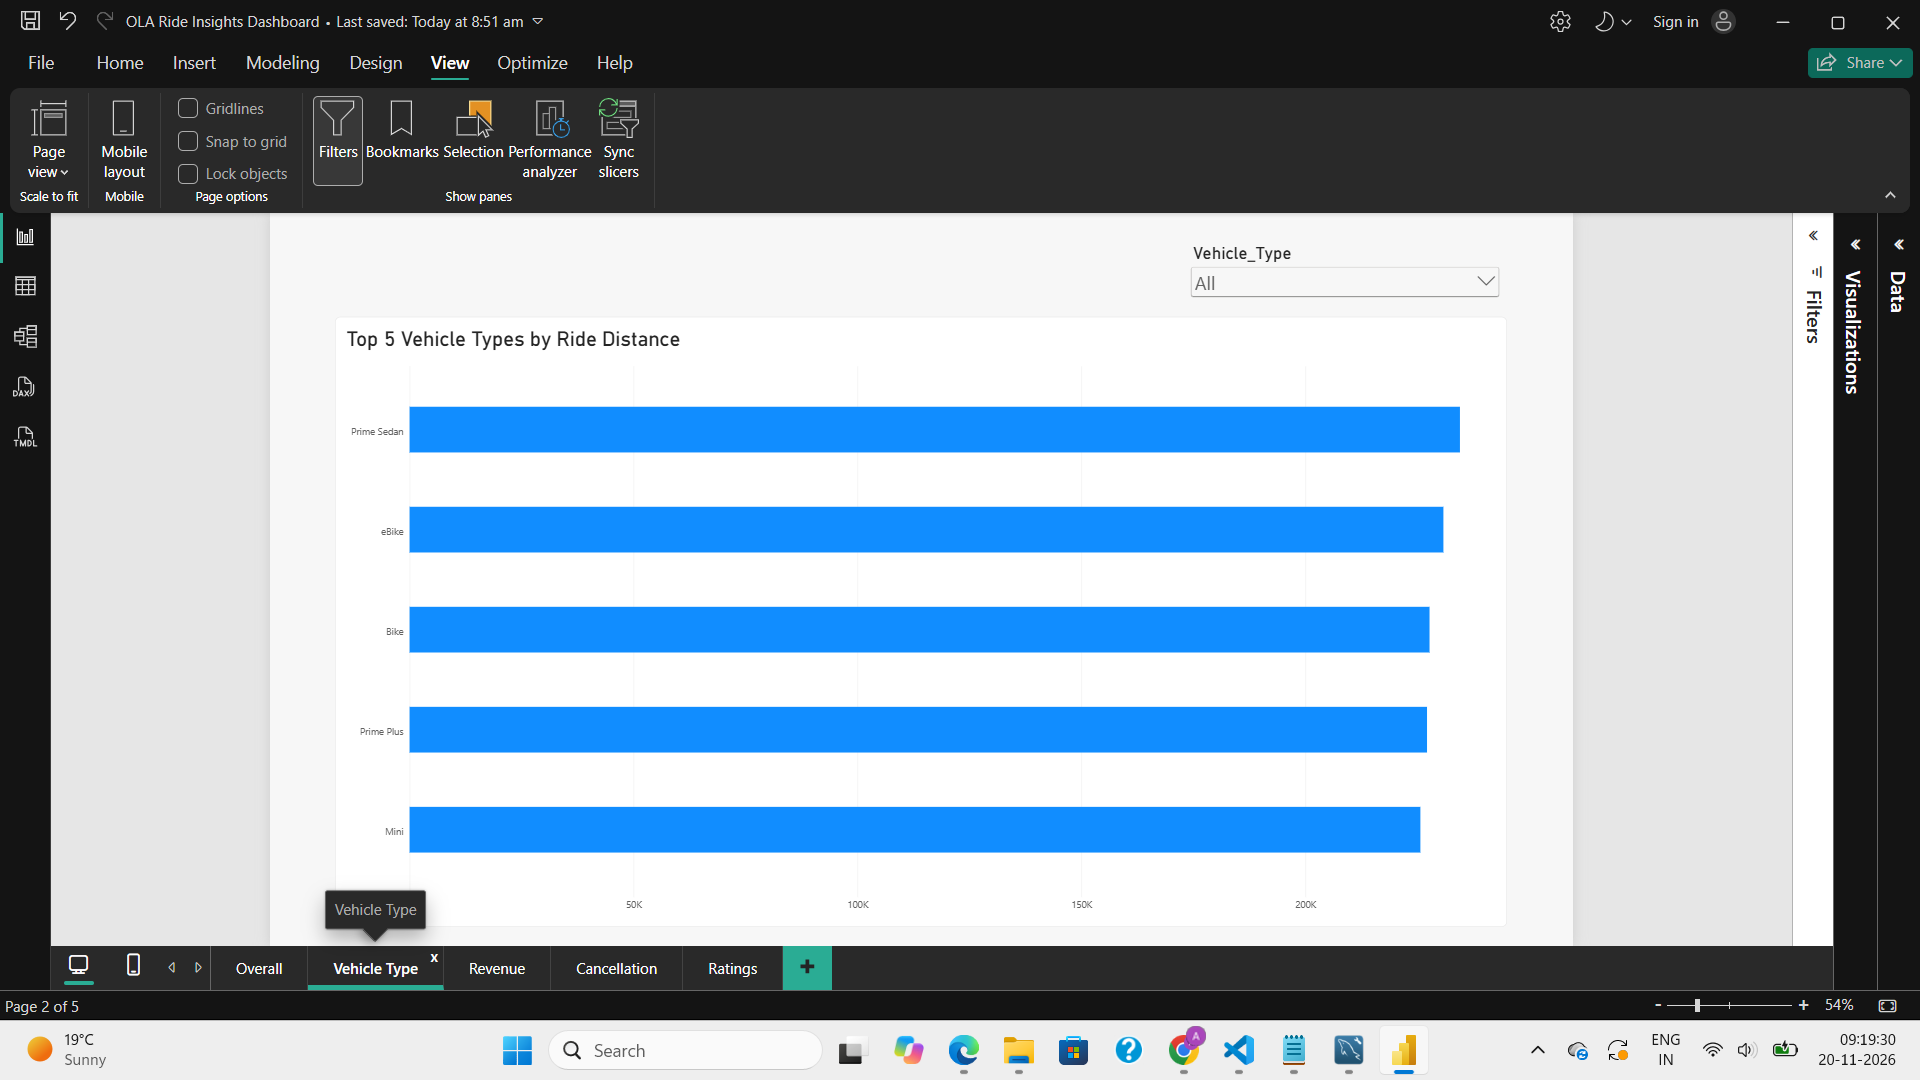

Layout of this report page (visuals, bound fields, positions):
{"tool":"powerbi","page":{"name":"Vehicle Type","canvas":[1920,1080],"ordinal":1},"visuals":[{"type":"clusteredBarChart","title":"Top 5 Vehicle Types by Ride Distance","fields":{"Category":["ola_ride_project ola_rides.Vehicle_Type"],"Y":["Sum(ola_ride_project ola_rides.Ride_Distance)"]},"box":[96.4,152.8,1725.6,898],"z":0},{"type":"slicer","fields":{"Values":["ola_ride_project ola_rides.Vehicle_Type"]},"box":[1350.4,44,464,170],"z":1}]}

Visuals, with their boxes on the page's 1920x1080 design canvas (x1, y1, x2, y2). These are canvas units, not pixel positions in the 1920x1080 screenshot, which may show the page scaled, cropped or inside an application window:
"Top 5 Vehicle Types by Ride Distance" clusteredBarChart: x1=96 y1=153 x2=1822 y2=1051
slicer - ola_ride_project ola_rides.Vehicle_Type: x1=1350 y1=44 x2=1814 y2=214
